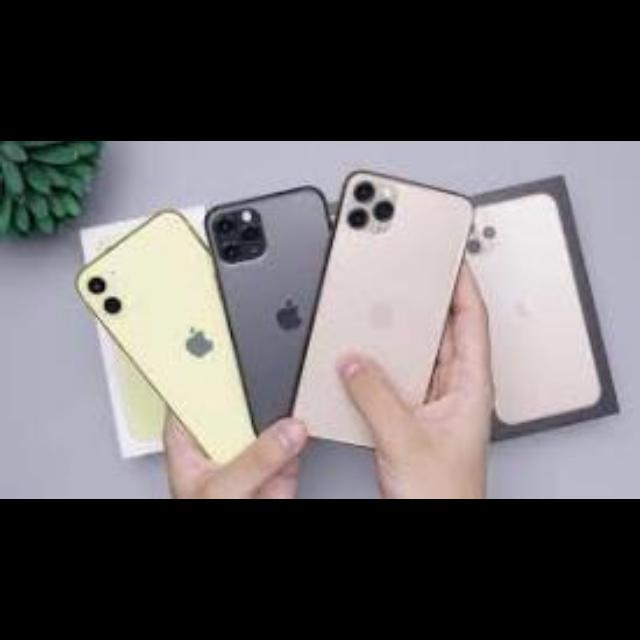Phone: (298, 174, 470, 452), (70, 208, 214, 470), (204, 184, 326, 428)
